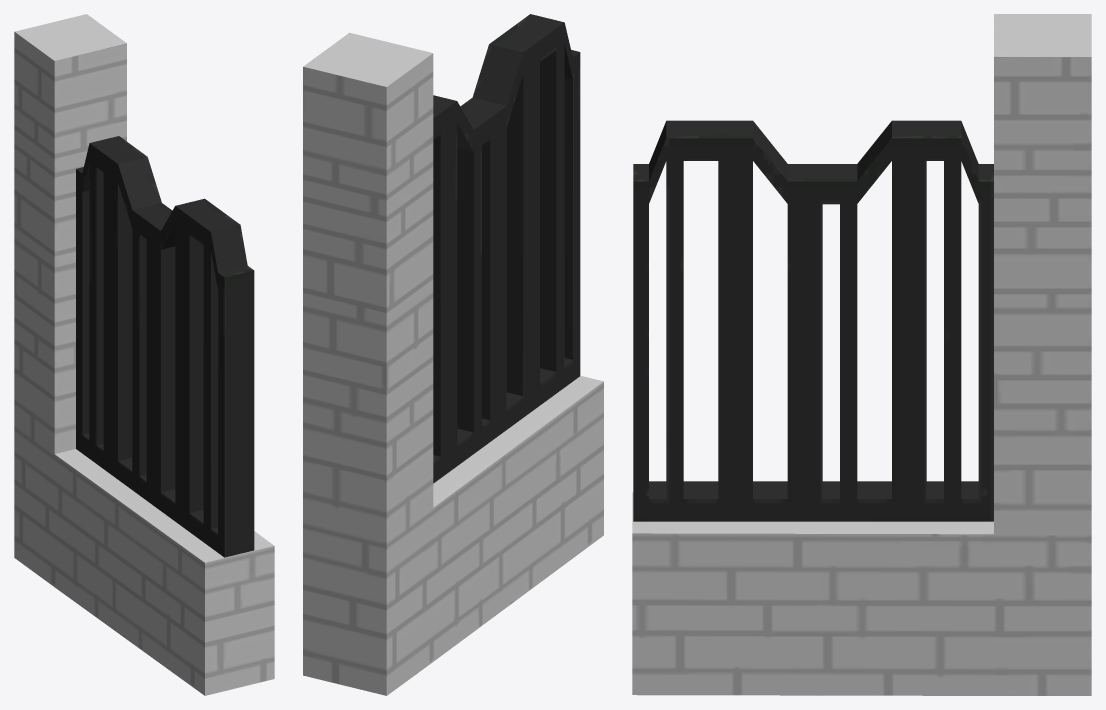
The model's file is ShortGateFence.fbx.
3 views of the same model, side by side, from view 1: azimuth 30°, elevation 25°; view 2: azimuth 150°, elevation 25°; view 3: azimuth 270°, elevation 25° (orthographic). The views are drawn at different scales.
Visible parts, largest first — view 1: ShortGate_FencePillar, ShortGate_Fence; view 2: ShortGate_FencePillar, ShortGate_Fence; view 3: ShortGate_FencePillar, ShortGate_Fence.
Part boxes in pixels (x1,y1,x2,y2): ShortGate_FencePillar: (14,14,274,695); ShortGate_Fence: (76,136,254,557); ShortGate_FencePillar: (303,32,603,695); ShortGate_Fence: (433,14,580,483); ShortGate_FencePillar: (632,14,1091,695); ShortGate_Fence: (633,120,993,521).
Bounding box in the file's own units: 15.83 × 110 × 71.64.
